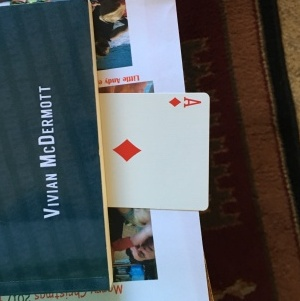card: (90, 91, 210, 210)
